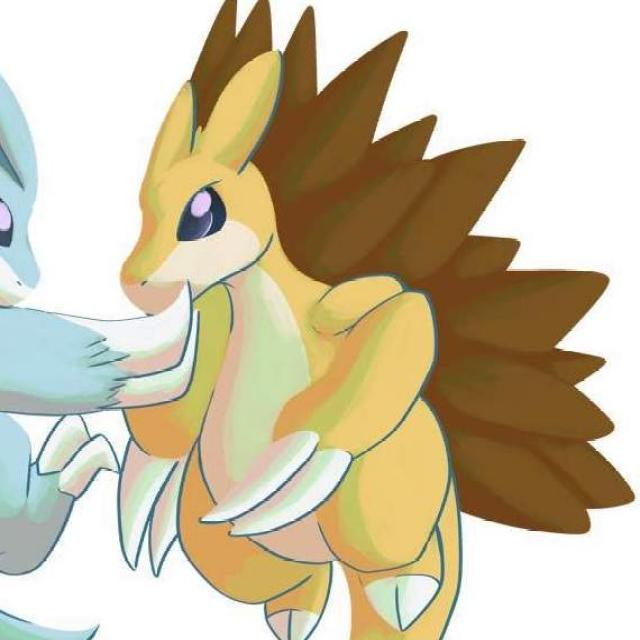Sandslash: (129, 6, 519, 606)
